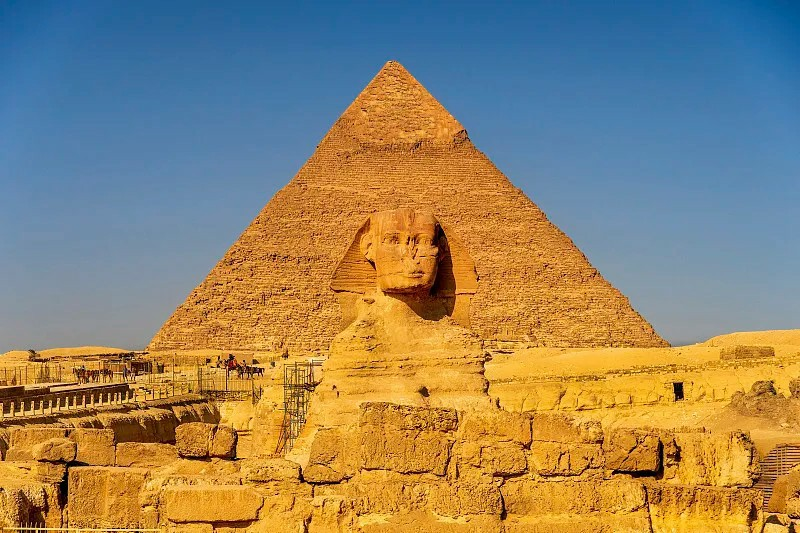Pyramid: (143, 60, 669, 351)
